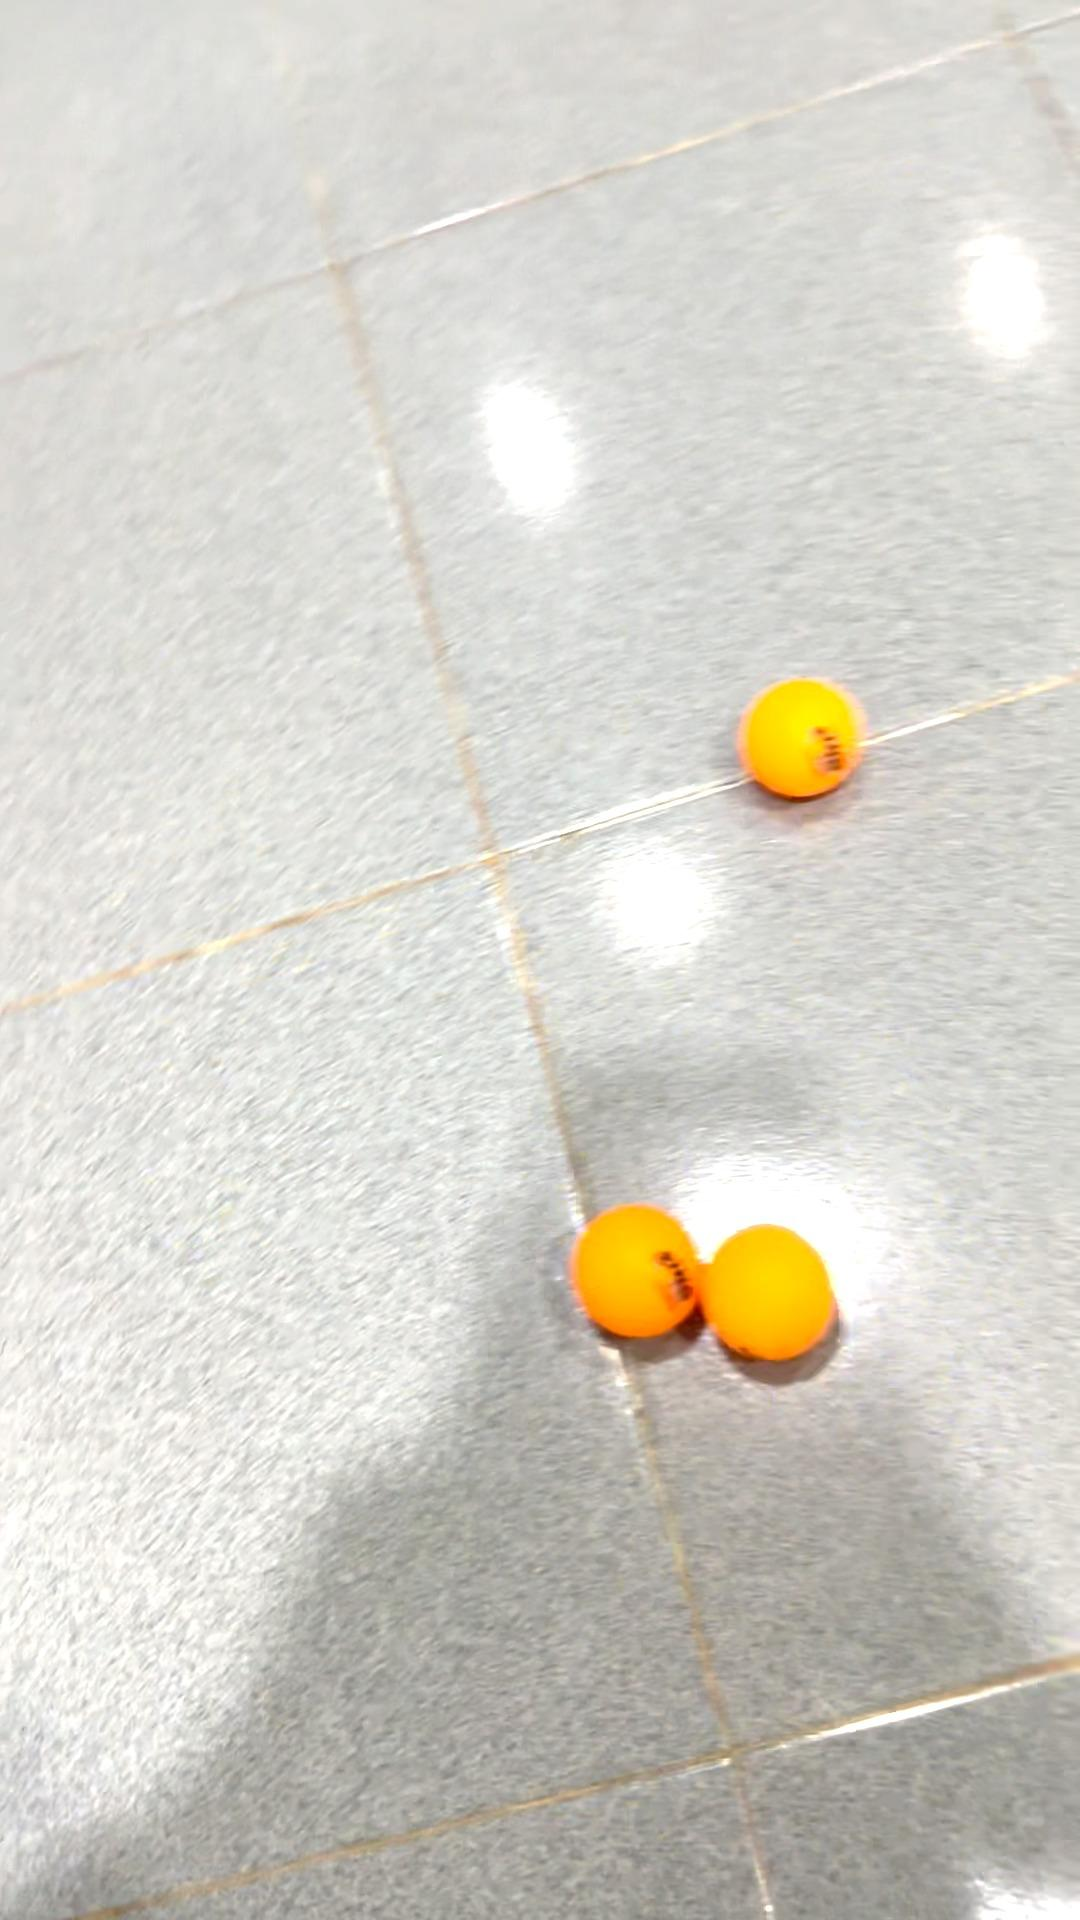oball: (564, 1196, 691, 1350), (704, 1225, 840, 1364), (737, 667, 869, 806)
